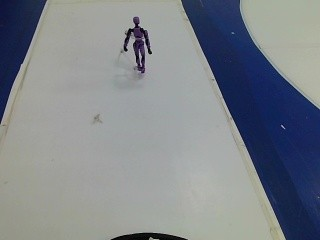pedestrian: (120, 15, 154, 79)
